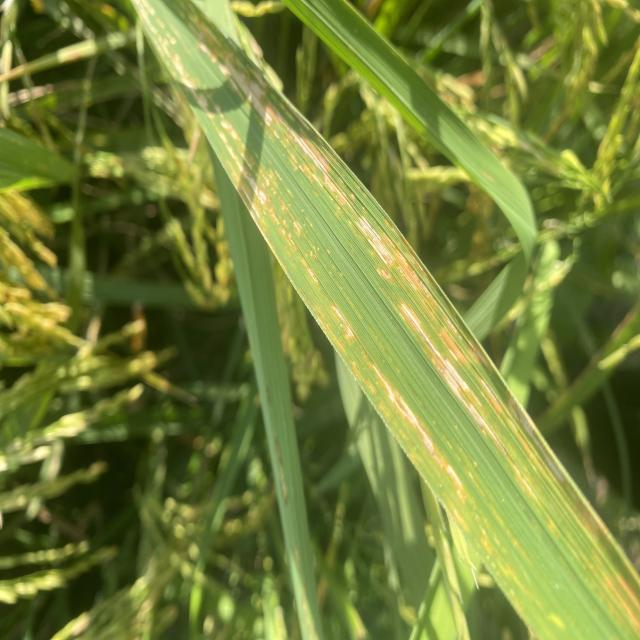Dom soc vi khuan: (400, 304, 508, 457), (373, 364, 443, 470), (356, 215, 395, 267), (330, 304, 355, 339), (307, 267, 319, 285)
